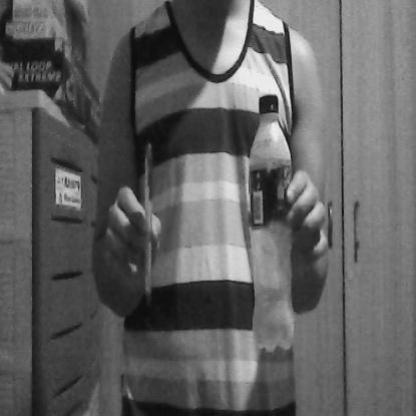Plastic Bottle: (243, 76, 299, 364)
